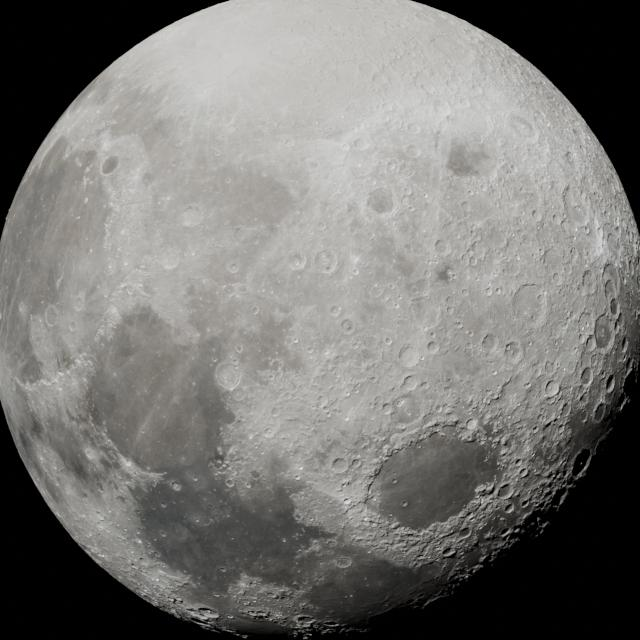crater: (563, 184, 591, 224), (419, 300, 446, 332), (214, 362, 243, 390), (367, 187, 394, 214), (508, 115, 535, 142), (593, 314, 613, 348), (393, 398, 417, 424), (181, 206, 204, 228), (398, 346, 421, 368), (316, 250, 336, 274), (410, 278, 431, 298), (400, 373, 420, 392), (433, 99, 452, 119), (160, 252, 180, 270), (503, 341, 521, 361), (184, 468, 204, 486), (288, 252, 306, 271), (604, 278, 618, 302), (44, 305, 59, 327), (481, 334, 498, 352), (582, 268, 596, 289), (331, 457, 348, 474), (496, 482, 514, 498), (543, 358, 559, 376), (544, 379, 560, 396), (540, 247, 555, 265), (580, 368, 594, 387), (358, 61, 374, 77), (604, 374, 616, 394), (434, 238, 449, 254), (404, 144, 420, 159), (406, 122, 422, 137), (72, 295, 86, 312), (329, 302, 343, 319), (583, 336, 596, 354), (456, 526, 472, 540), (464, 418, 479, 432), (372, 71, 386, 86), (336, 556, 352, 569), (340, 318, 354, 332), (457, 96, 471, 110), (122, 284, 137, 297), (441, 546, 457, 558), (262, 426, 276, 439), (141, 172, 154, 186), (426, 340, 439, 354), (400, 194, 414, 207), (370, 285, 383, 299), (499, 442, 512, 456), (550, 272, 563, 285), (227, 261, 240, 274), (352, 137, 364, 151), (518, 494, 530, 508), (444, 268, 456, 281), (379, 402, 392, 414), (502, 502, 514, 514), (317, 396, 329, 408), (175, 137, 188, 148), (115, 494, 127, 505), (283, 137, 295, 148), (459, 200, 470, 212), (468, 254, 479, 266), (500, 436, 511, 448), (171, 482, 182, 492), (316, 221, 327, 231), (270, 406, 281, 416), (212, 148, 223, 158), (484, 285, 494, 296), (402, 186, 412, 197), (373, 395, 383, 406), (444, 295, 454, 306), (68, 320, 77, 332), (225, 478, 235, 488), (234, 344, 244, 354), (250, 306, 260, 316), (551, 213, 560, 224), (95, 481, 104, 492), (96, 512, 105, 522), (460, 288, 469, 298), (384, 336, 393, 346), (224, 176, 233, 186), (150, 550, 161, 558), (244, 481, 253, 490), (351, 267, 360, 276), (158, 530, 168, 538), (530, 209, 538, 219), (342, 497, 352, 505), (523, 380, 531, 390), (400, 500, 409, 508), (159, 501, 168, 509), (530, 424, 538, 433), (306, 346, 315, 354), (218, 566, 228, 573), (193, 517, 201, 525), (494, 287, 502, 295), (293, 474, 301, 481), (292, 337, 299, 344), (491, 369, 498, 376), (391, 478, 398, 484), (298, 465, 304, 472), (282, 538, 288, 544)
rock: (474, 481, 495, 499)
